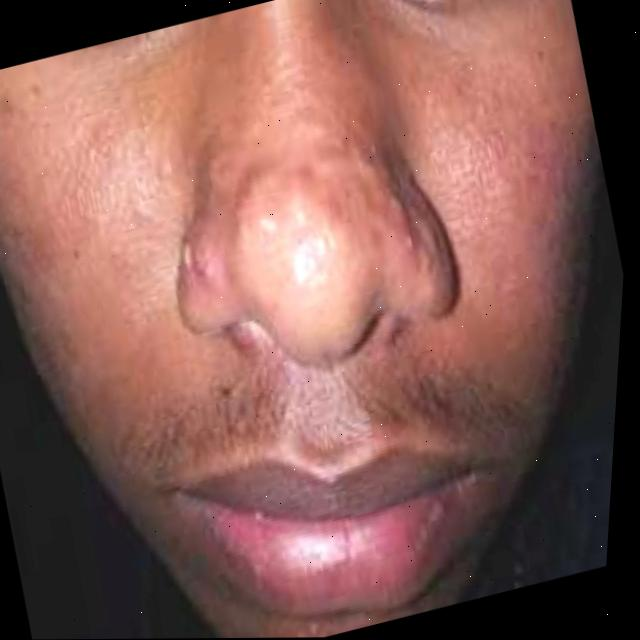Rosacea: (189, 110, 435, 314)
